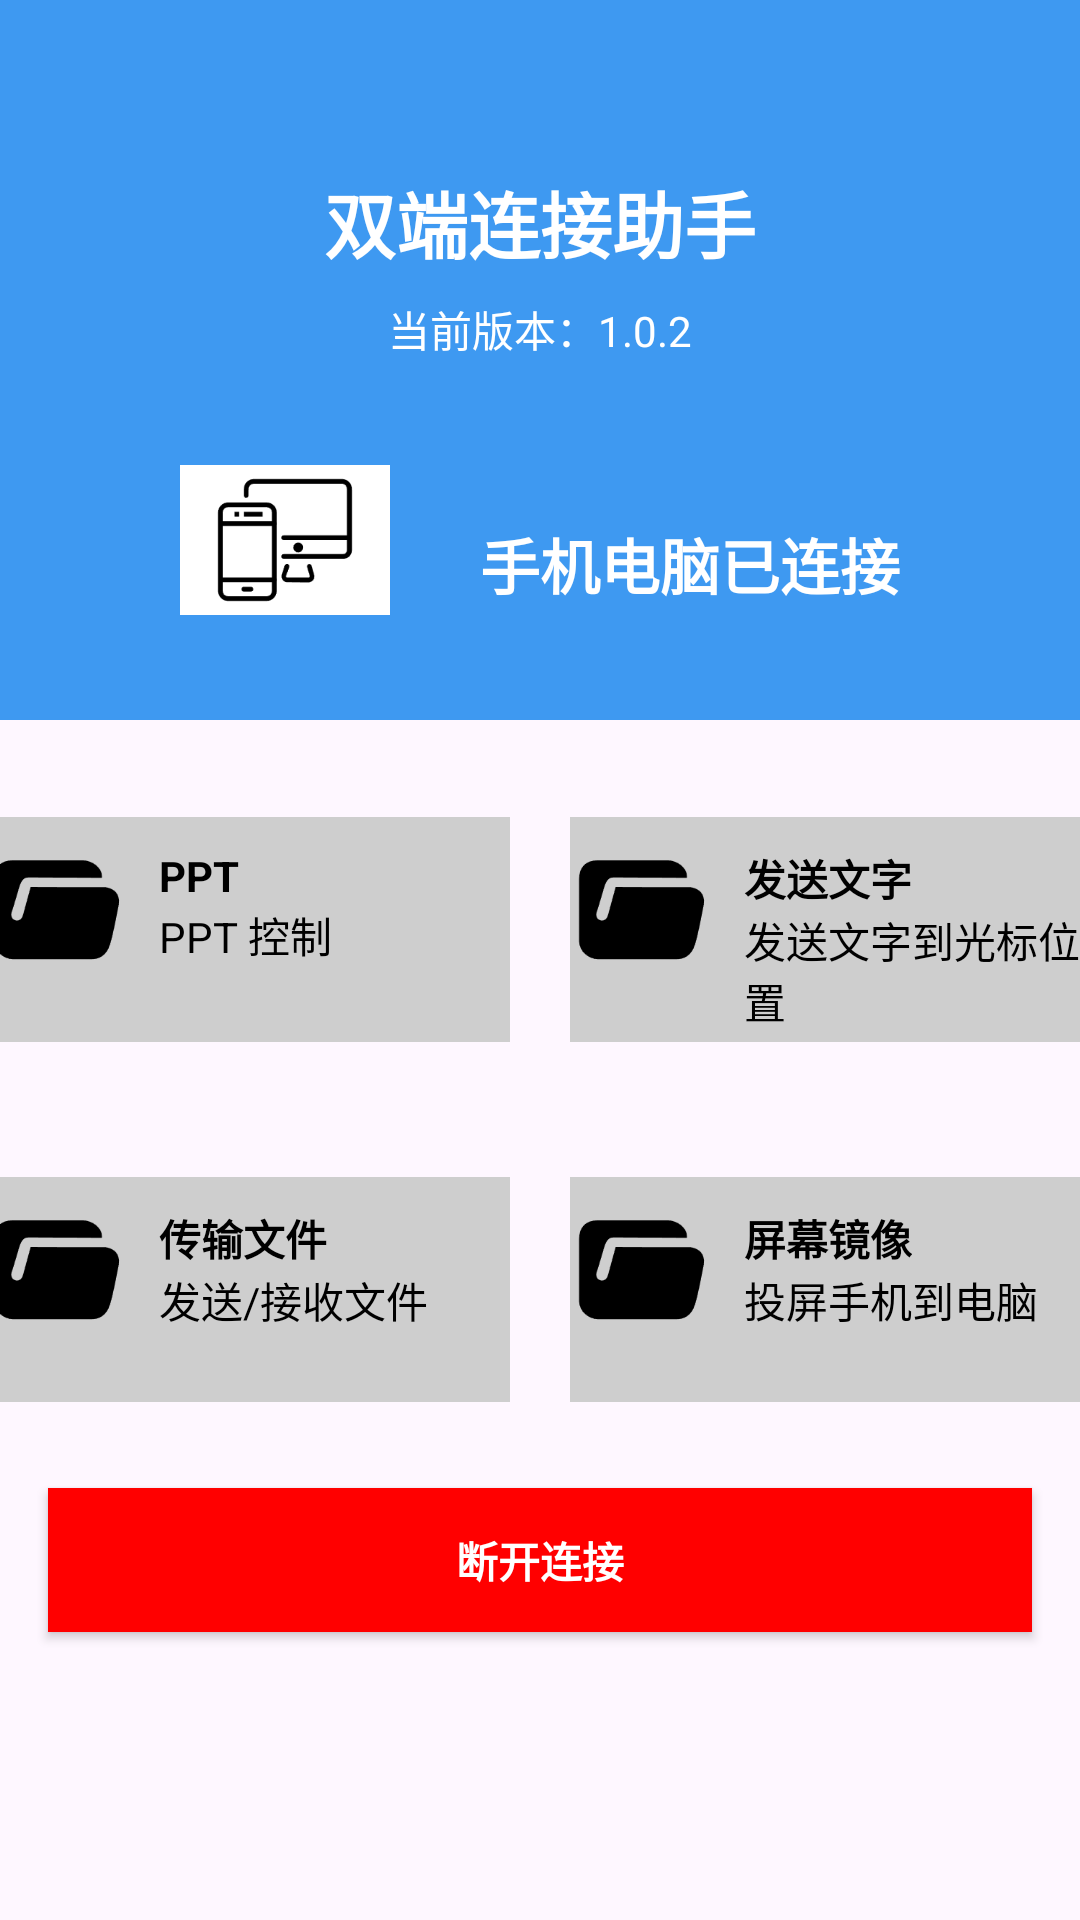

Where icons sit on this 1080x1920 app screen, as (x1, y1, x2, y2):
phone pc: (180, 465, 390, 615)
